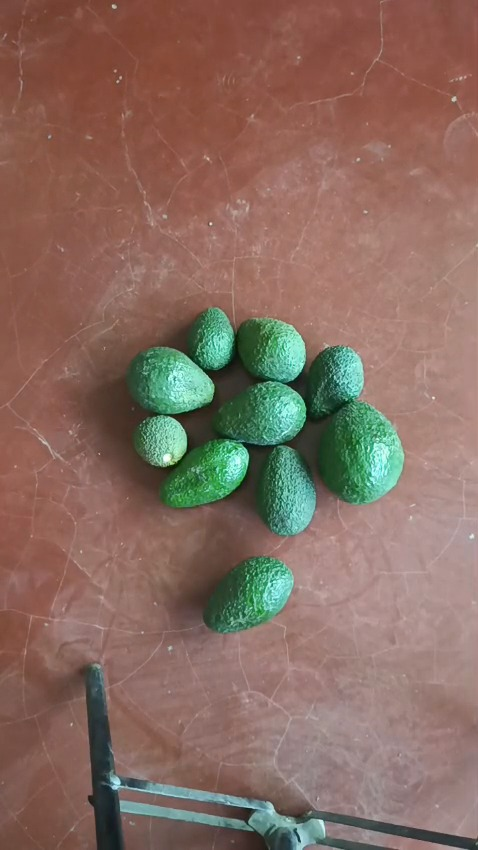Primera: (317, 402, 405, 503)
Segunda: (204, 555, 293, 632), (159, 438, 249, 508), (125, 347, 216, 416), (212, 381, 307, 445), (255, 444, 315, 535), (235, 316, 306, 383)
Tercera: (303, 346, 365, 420), (186, 306, 235, 372), (133, 415, 187, 468)
